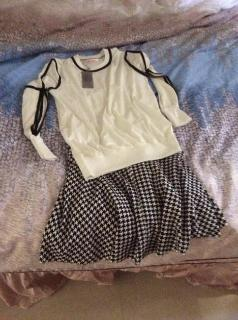long sleeve top: (22, 47, 193, 180)
skirt: (39, 146, 229, 266)
